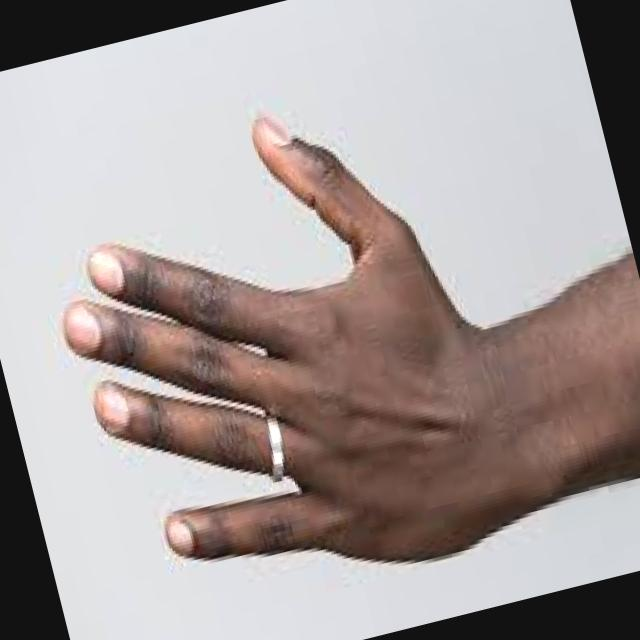Hand: (9, 58, 525, 640)
